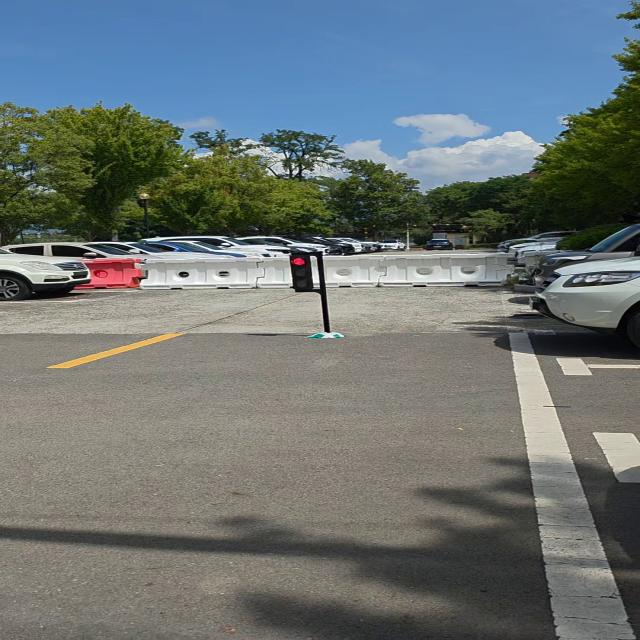red: (288, 252, 316, 292)
